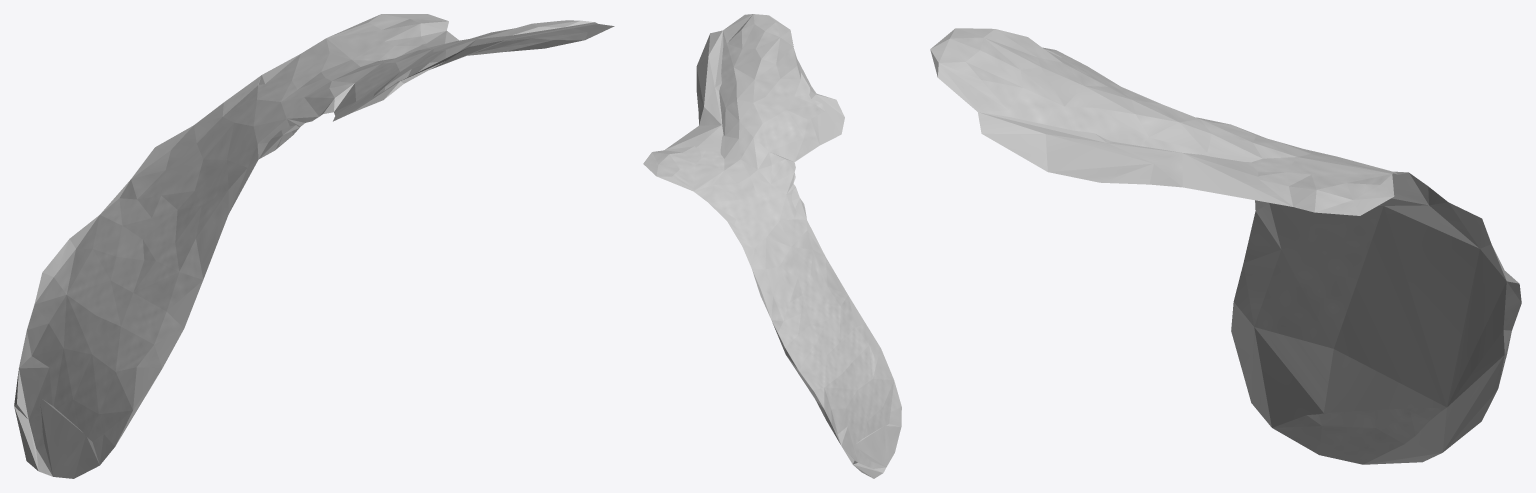
Rendered from Purple_Floor_Paper_fbx_002.fbx.
3 renders of one model, left to right at view 1: azimuth 30°, elevation 25°; view 2: azimuth 150°, elevation 25°; view 3: azimuth 270°, elevation 25°, orthographic. The views are drawn at different scales.
Visible parts, largest first — view 1: Default; view 2: Default; view 3: Default.
Part boxes in pixels (x1,y1,x2,y2): Default: (14, 14, 614, 478); Default: (643, 14, 901, 478); Default: (930, 28, 1521, 464).
Size of the model in its own units: 27.3 by 30.18 by 25.43.
